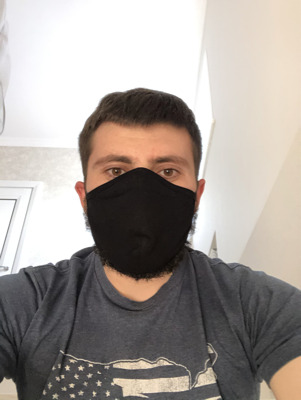with_mask: (86, 144, 198, 281)
